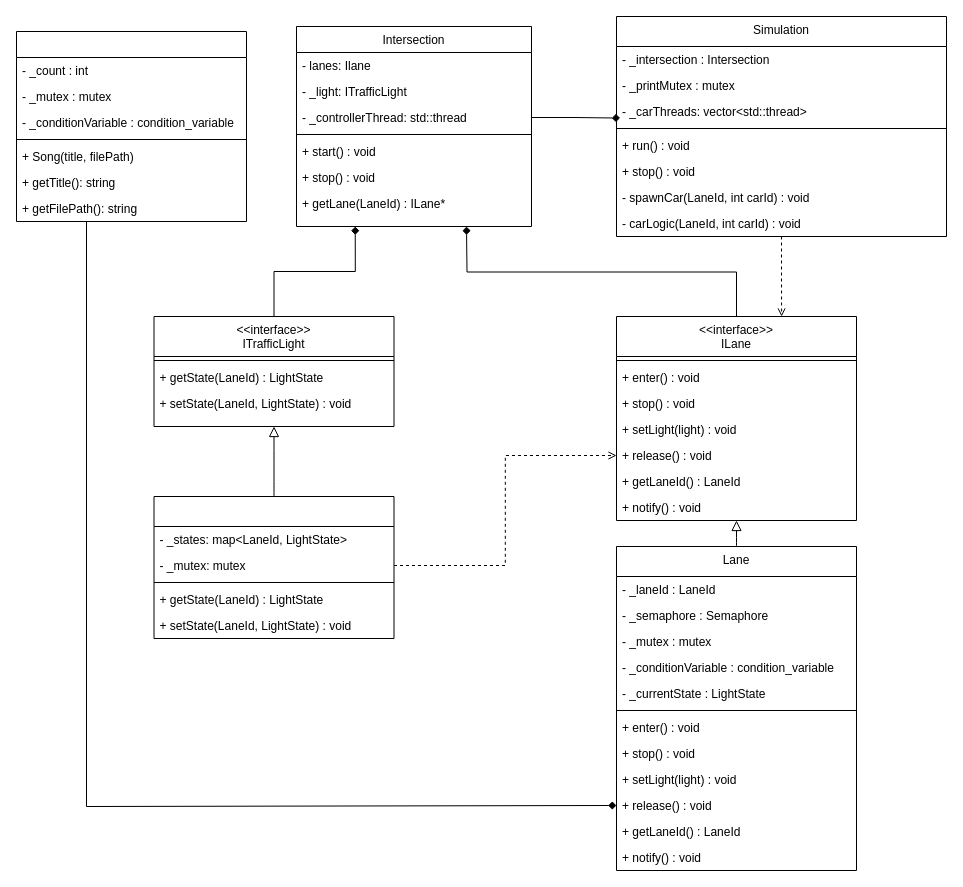
The diagram is 963 pixels wide and 887 high, and some of its shapes have lost their labels. Each missing label, with the box of its shape:
Semaphore: (16, 30, 246, 222)
TrafficLight: (153, 496, 394, 638)
